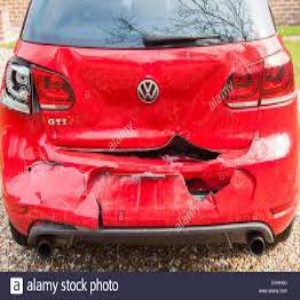bumper: (13, 149, 174, 246)
